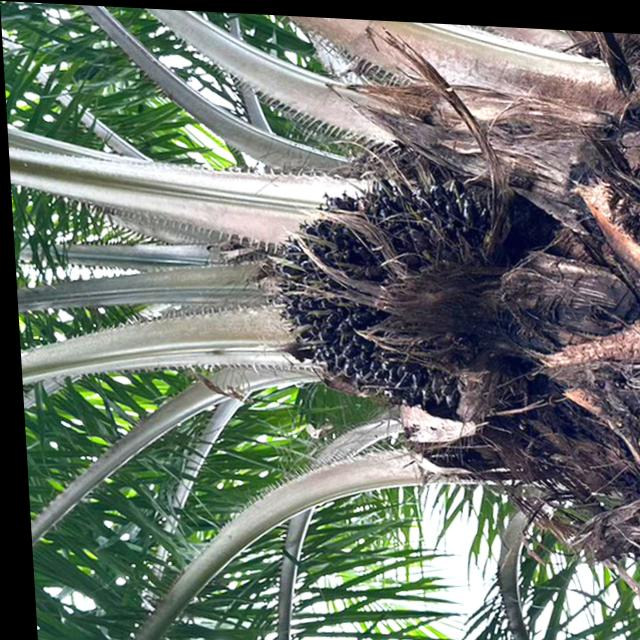unripe: (255, 158, 523, 418)
